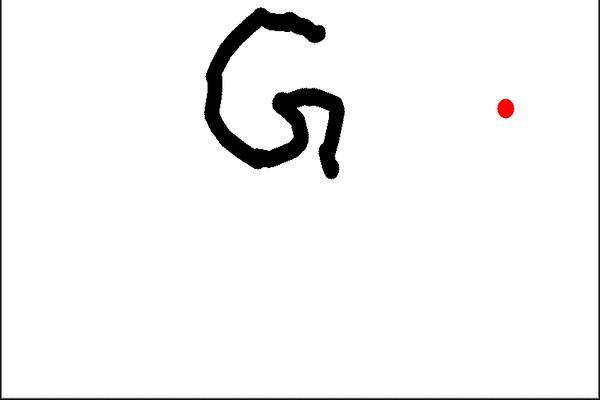G: (198, 4, 351, 184)
